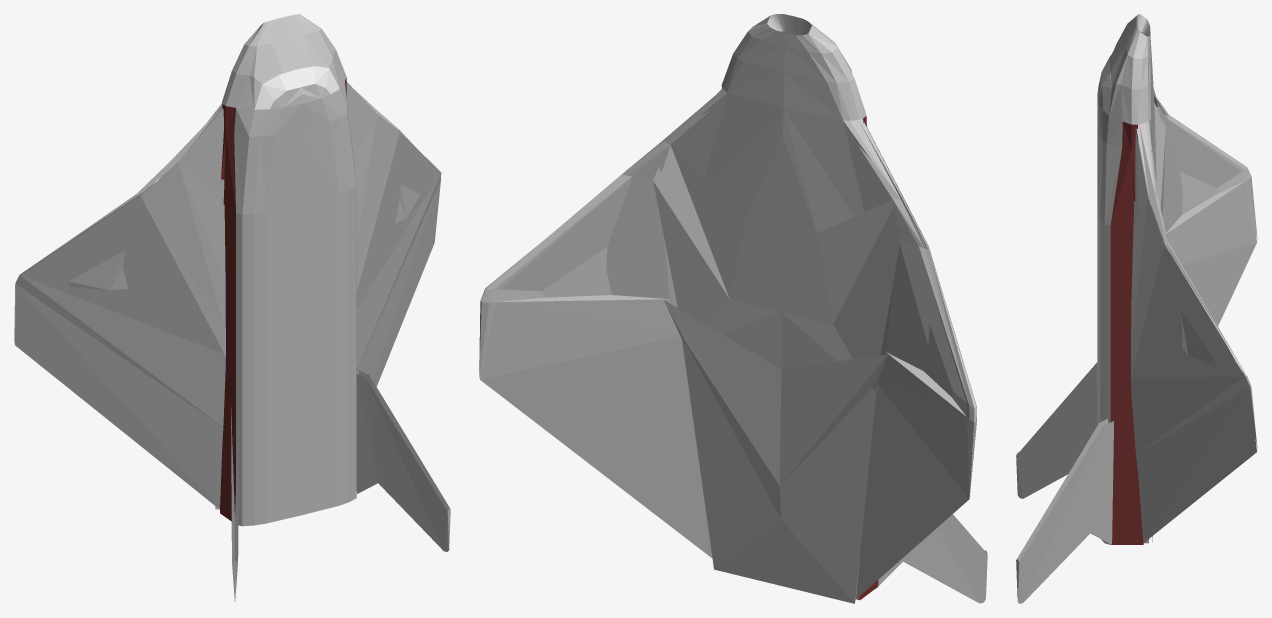
The model's file is SHIP.OBJ.
3 renders of one model, left to right at view 1: azimuth 30°, elevation 25°; view 2: azimuth 150°, elevation 25°; view 3: azimuth 270°, elevation 25°, orthographic. The views are drawn at different scales.
Bounding box in the file's own units: 89.9 × 105 × 43.26.
